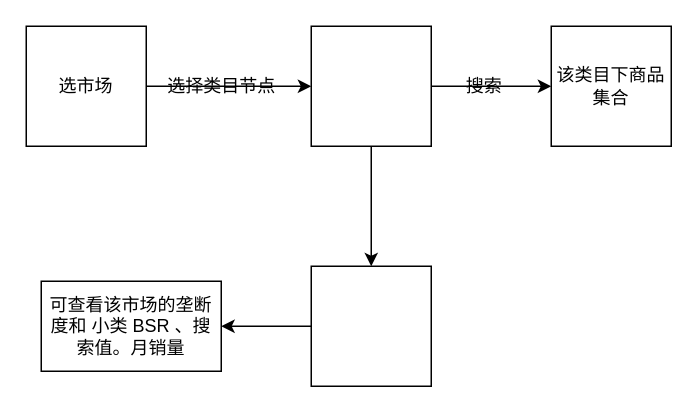
This 698x413 diagram has some shape labels left out. The box of each missing label's shape, as (x1, y1, x2, y2) in pixels:
核心 小类目key N(桌子，桌垫): (310, 25, 431, 146)
每个类目下商品集合构成子市场组成一行: (310, 265, 431, 386)
